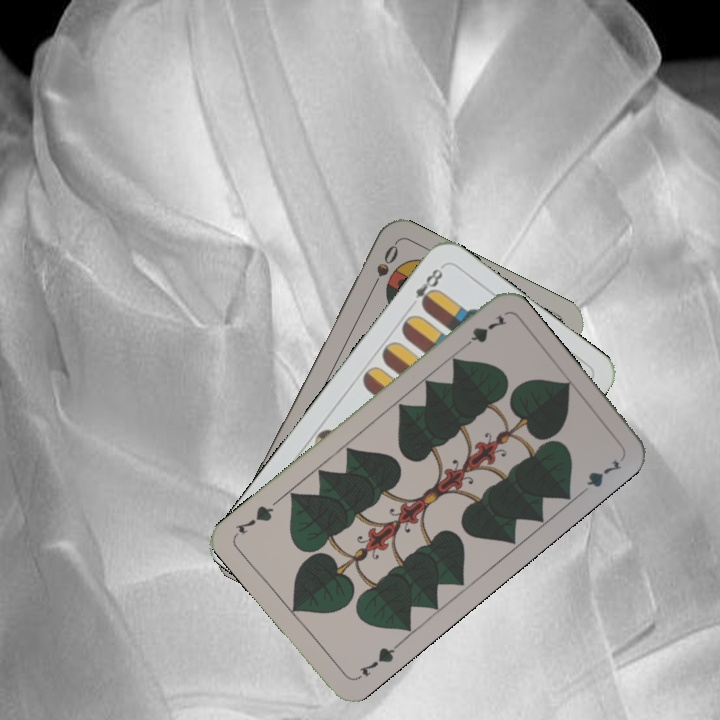E8: (404, 262, 446, 311)
G7: (456, 310, 509, 354), (352, 640, 402, 683)
SO: (366, 240, 401, 295)
